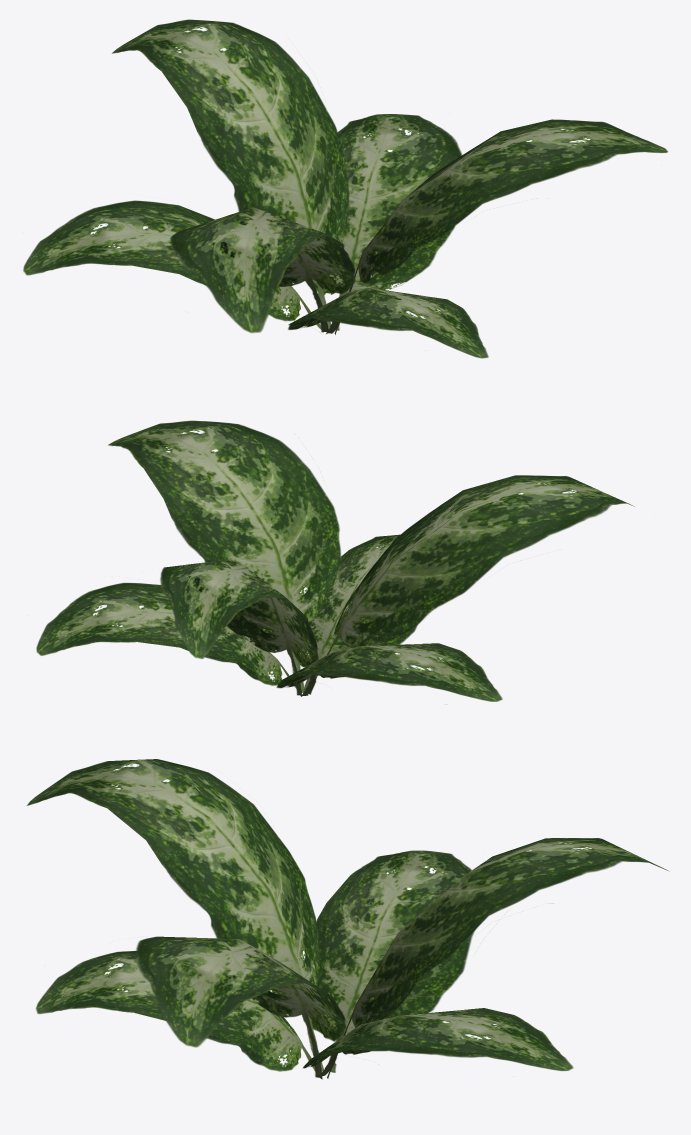
Rendered from tropical_leaf.glb.
The picture shows the model from 3 angles, top to bottom: view 1: azimuth 30°, elevation 25°; view 2: azimuth 150°, elevation 25°; view 3: azimuth 270°, elevation 25°; orthographic projection. The views are drawn at different scales.
Visible parts, largest first — view 1: trop_leav 5_w; view 2: trop_leav 5_w; view 3: trop_leav 5_w.
Part boxes in pixels (left/top/right/bottom): trop_leav 5_w: left=23, top=19, right=668, bottom=358; trop_leav 5_w: left=36, top=420, right=634, bottom=701; trop_leav 5_w: left=27, top=759, right=669, bottom=1079.
Bounding box in the file's own units: 3.49 × 1.3 × 3.25.
Materials: 1 (1 with a texture image).
